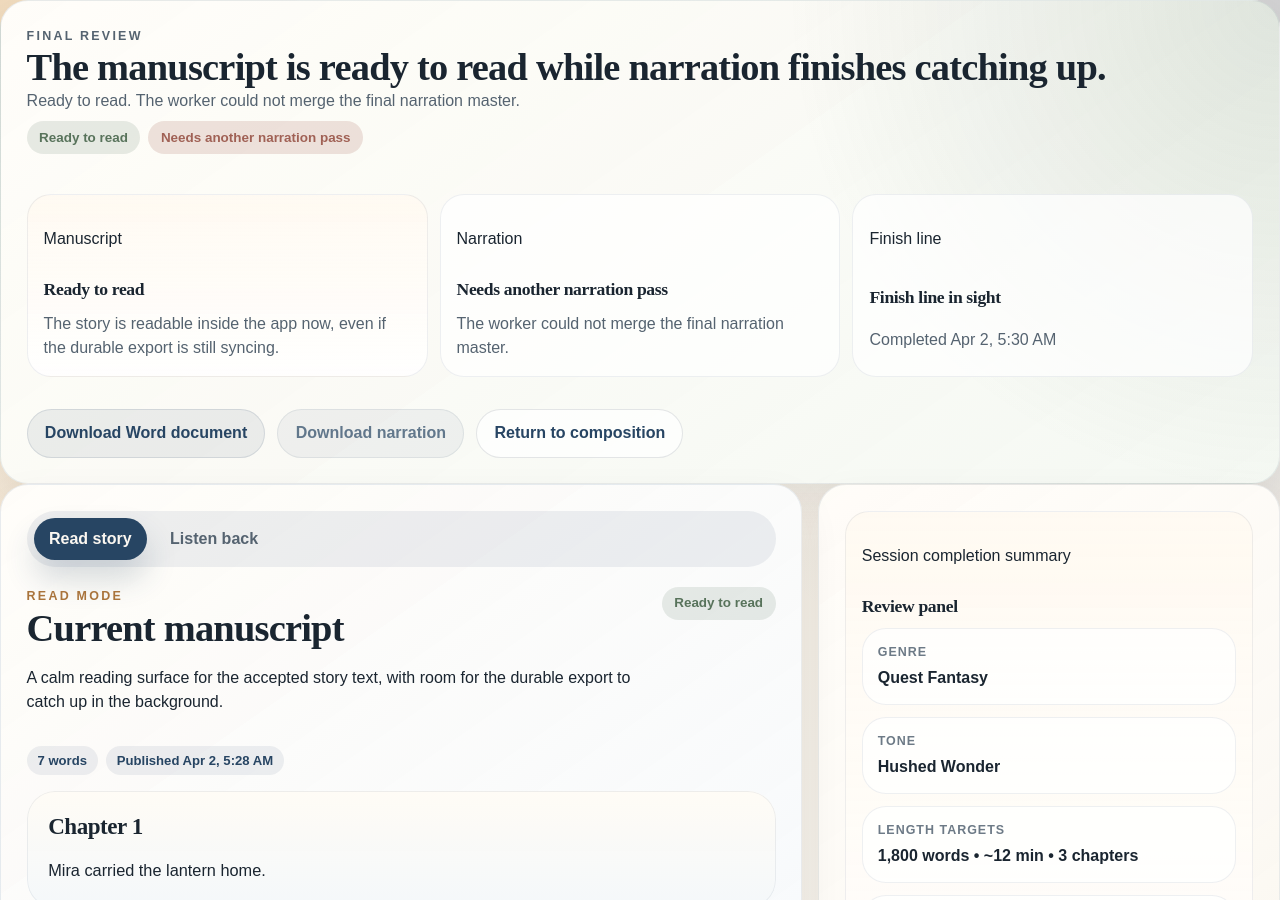
Test: FinalizeStage › handles failed narration without losing the finish-line review surface
Check: the heading "Chapter 1" is shown, box x1=48 y1=813 x2=143 y2=839
Click the tab "Listen back" at (214, 539), box x1=155 y1=518 x2=273 y2=560
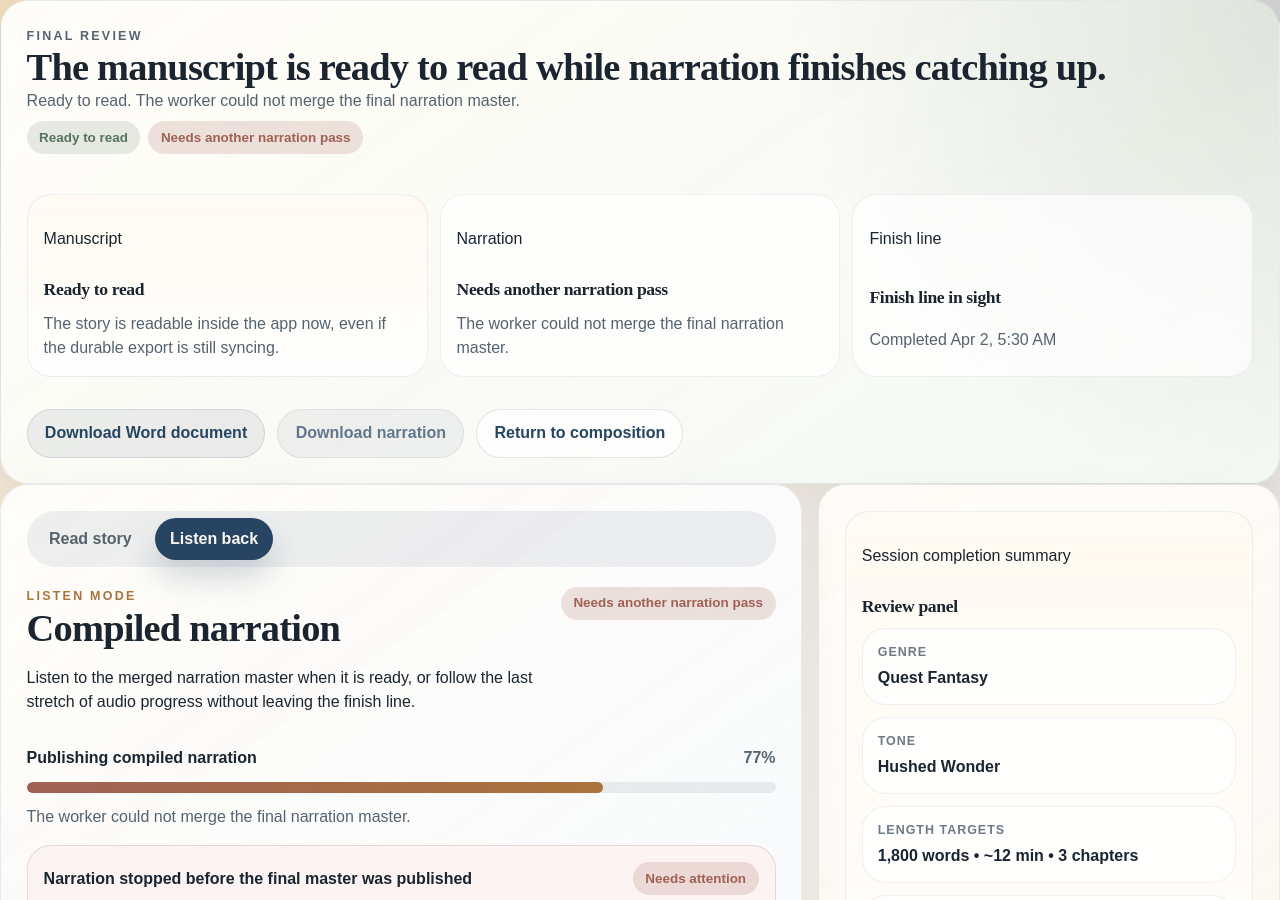
Check: the text "The worker could not merge the final narration master." below "Finish line in sight" is shown, box x1=456 y1=315 x2=784 y2=356
Check: the text "Narration stopped before the final master was published" is shown, box x1=44 y1=867 x2=472 y2=891
